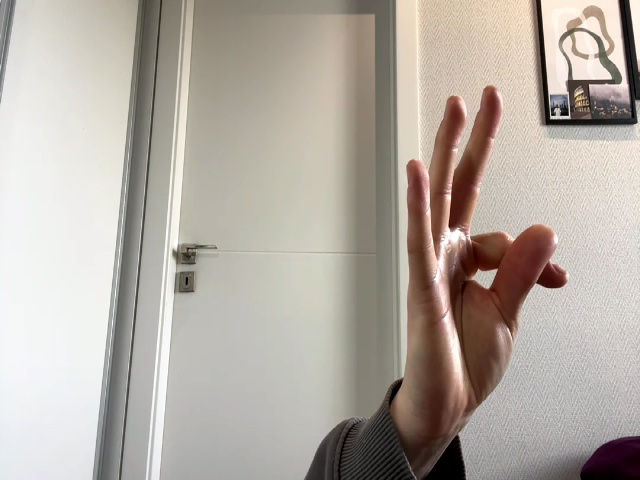T: (406, 86, 570, 400)
